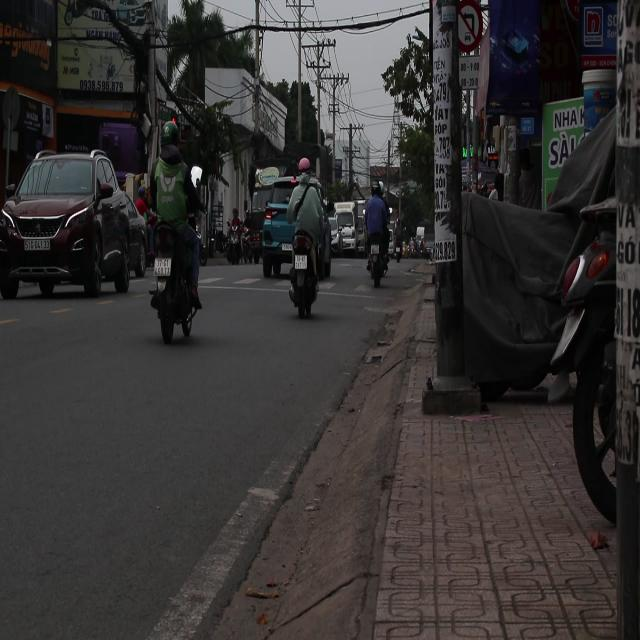car: (1, 150, 147, 300), (260, 180, 298, 280)
motorbike: (150, 244, 200, 343), (284, 214, 321, 318), (368, 240, 390, 286), (226, 209, 244, 264)
truck: (331, 208, 362, 253)
